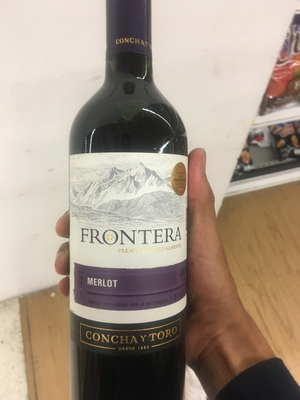frontera merlot: (61, 18, 196, 399)
